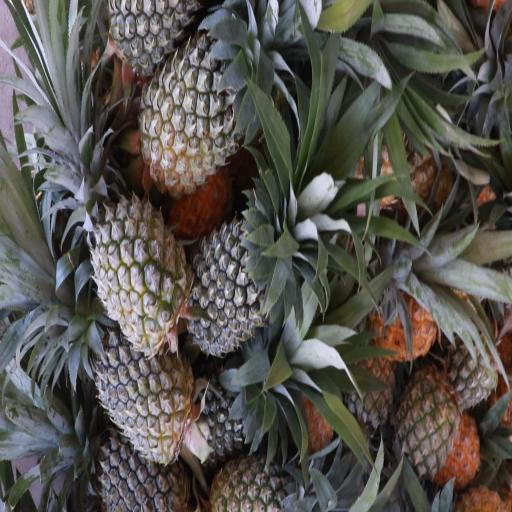------------------------------: (144, 44, 253, 187), (97, 195, 186, 347), (394, 371, 458, 475)
